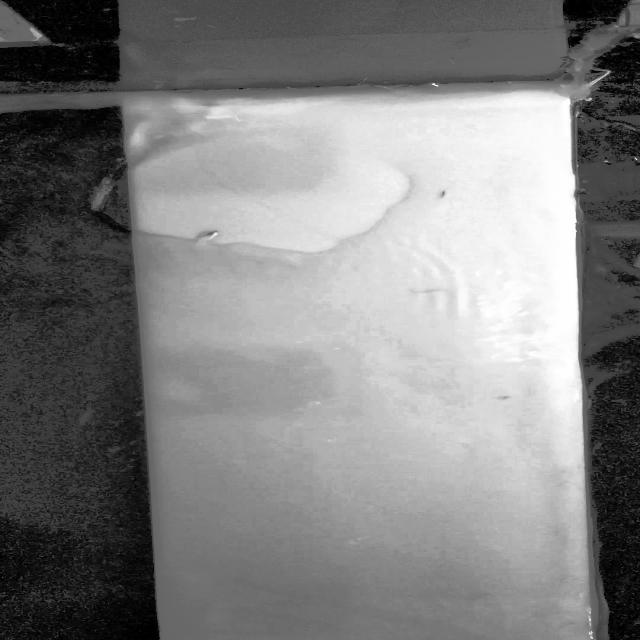shrimp: (407, 180, 467, 210), (179, 223, 233, 253)
